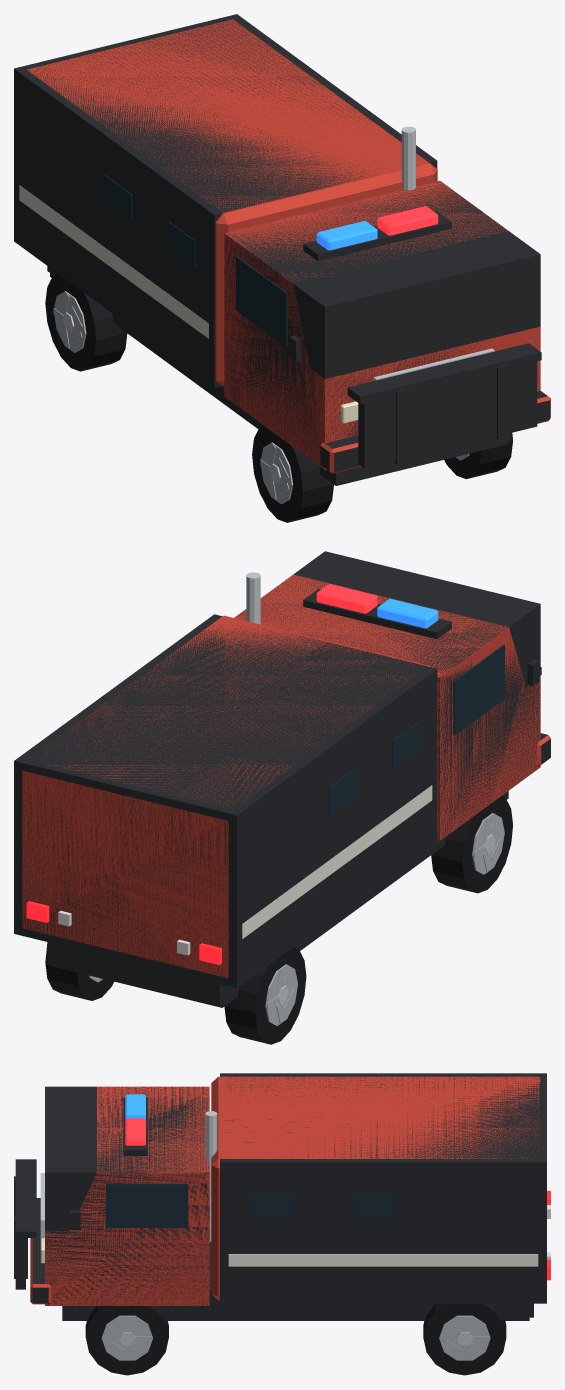
The model's file is VEH_Swat.fbx.
3 views of the same model, one above another, from view 1: azimuth 30°, elevation 25°; view 2: azimuth 150°, elevation 25°; view 3: azimuth 270°, elevation 25° (orthographic). The views are drawn at different scales.
Visible parts, largest first — view 1: VEH_Swat__BODY, VEH_Swat__COL_Box, VEH_Swat__COL_Cab, VEH_Swat__WHEEL_RR, VEH_Swat__WHEEL_FR, VEH_Swat__COL_Frame, VEH_Swat__WHEEL_FL, VEH_Swat__SIREN_B, VEH_Swat__SIREN_R, VEH_Swat__EXHAUST; view 2: VEH_Swat__COL_Box, VEH_Swat__BODY, VEH_Swat__COL_Cab, VEH_Swat__WHEEL_RR, VEH_Swat__WHEEL_FR, VEH_Swat__COL_Frame, VEH_Swat__WHEEL_RL, VEH_Swat__LIGHTS, VEH_Swat__SIREN_B, VEH_Swat__SIREN_R, VEH_Swat__EXHAUST; view 3: VEH_Swat__BODY, VEH_Swat__COL_Box, VEH_Swat__COL_Cab, VEH_Swat__COL_Frame, VEH_Swat__WHEEL_RL, VEH_Swat__WHEEL_FL, VEH_Swat__EXHAUST, VEH_Swat__SIREN_R, VEH_Swat__SIREN_B.
Part boxes in pixels (x1,y1,x2,y2): VEH_Swat__BODY: (19, 19, 550, 475); VEH_Swat__COL_Box: (14, 14, 437, 387); VEH_Swat__COL_Cab: (224, 181, 540, 469); VEH_Swat__WHEEL_RR: (45, 274, 127, 371); VEH_Swat__WHEEL_FR: (252, 425, 333, 522); VEH_Swat__COL_Frame: (50, 268, 508, 485); VEH_Swat__WHEEL_FL: (444, 433, 512, 479); VEH_Swat__SIREN_B: (316, 220, 377, 250); VEH_Swat__SIREN_R: (377, 206, 438, 235); VEH_Swat__EXHAUST: (401, 126, 415, 190); VEH_Swat__COL_Box: (14, 614, 437, 988); VEH_Swat__BODY: (22, 574, 550, 1005); VEH_Swat__COL_Cab: (234, 551, 540, 840); VEH_Swat__WHEEL_RR: (224, 947, 306, 1044); VEH_Swat__WHEEL_FR: (431, 796, 512, 893); VEH_Swat__COL_Frame: (50, 791, 508, 1007); VEH_Swat__WHEEL_RL: (45, 944, 113, 1000); VEH_Swat__LIGHTS: (26, 901, 221, 964); VEH_Swat__SIREN_B: (377, 598, 438, 628); VEH_Swat__SIREN_R: (316, 584, 377, 613); VEH_Swat__EXHAUST: (246, 572, 260, 624); VEH_Swat__BODY: (14, 1076, 540, 1317); VEH_Swat__COL_Box: (220, 1073, 546, 1303); VEH_Swat__COL_Cab: (45, 1086, 209, 1305); VEH_Swat__COL_Frame: (62, 1241, 529, 1320); VEH_Swat__WHEEL_RL: (423, 1303, 506, 1375); VEH_Swat__WHEEL_FL: (85, 1306, 168, 1375); VEH_Swat__EXHAUST: (205, 1111, 217, 1241); VEH_Swat__SIREN_R: (125, 1118, 145, 1145); VEH_Swat__SIREN_B: (125, 1094, 145, 1119).
Size of the model in its own units: 2.65 by 3.2 by 6.21.
